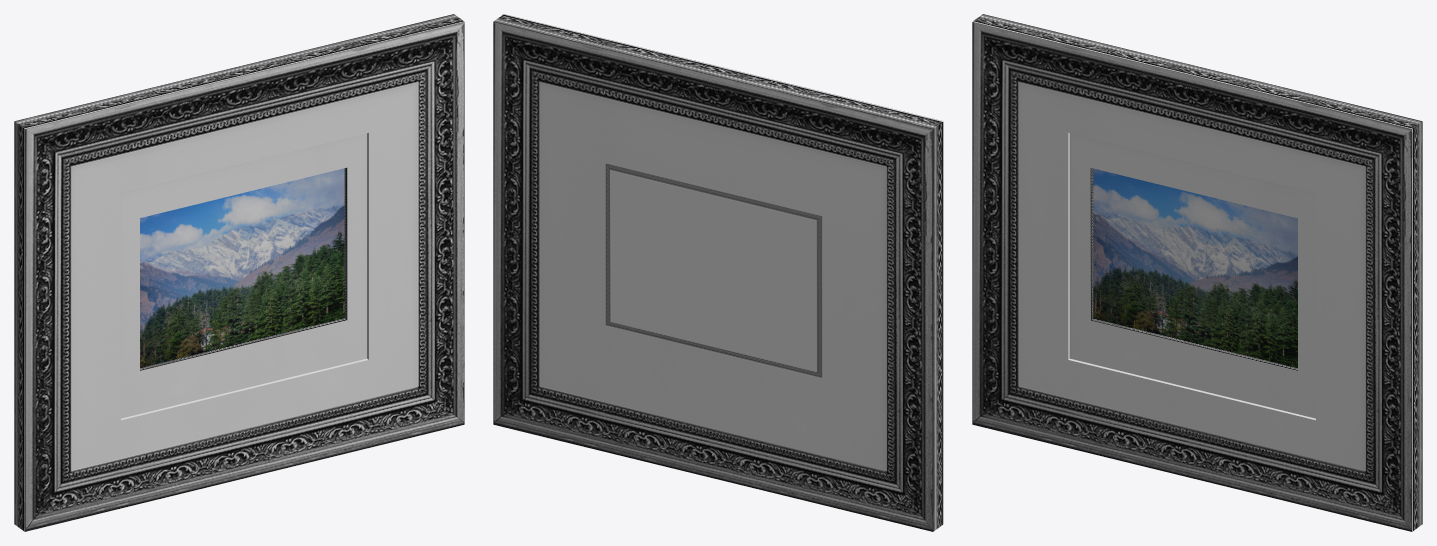
Rendered from Frame_020B.FBX.
The picture shows the model from 3 angles, left to right: view 1: azimuth 30°, elevation 25°; view 2: azimuth 150°, elevation 25°; view 3: azimuth 330°, elevation 25°; orthographic projection.
Parts seen in each view (by area): view 1: Frame_020B; view 2: Frame_020B; view 3: Frame_020B.
Part boxes in pixels (box(x1,y1,x2,y2)): Frame_020B: box(14, 14, 464, 531); Frame_020B: box(493, 14, 943, 531); Frame_020B: box(972, 14, 1422, 531).
Size of the model in its own units: 720 by 30.51 by 630.
